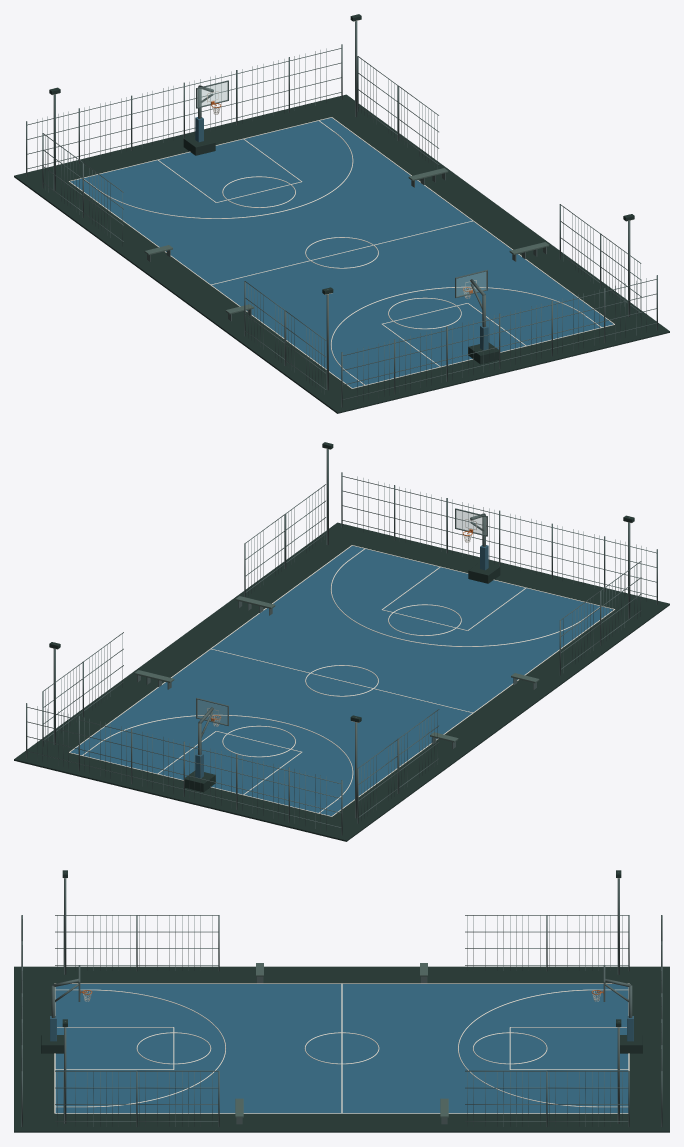
File: basketball-outdoor-1.glb
The picture shows the model from 3 angles, top to bottom: view 1: azimuth 30°, elevation 25°; view 2: azimuth 150°, elevation 25°; view 3: azimuth 270°, elevation 25°; orthographic projection.
Visible parts, largest first — view 1: basketball-outdoor-1__architecture_and_equipment; view 2: basketball-outdoor-1__architecture_and_equipment; view 3: basketball-outdoor-1__architecture_and_equipment.
Boxes of the visible parts, x1,y1,x2,y2 form: basketball-outdoor-1__architecture_and_equipment: (14,14,669,413); basketball-outdoor-1__architecture_and_equipment: (14,442,669,841); basketball-outdoor-1__architecture_and_equipment: (14,870,669,1132).
Bounding box in the file's own units: 19 × 5.59 × 32.
